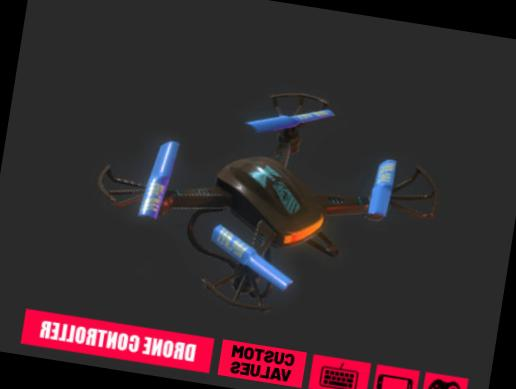drone: (59, 52, 473, 342)
